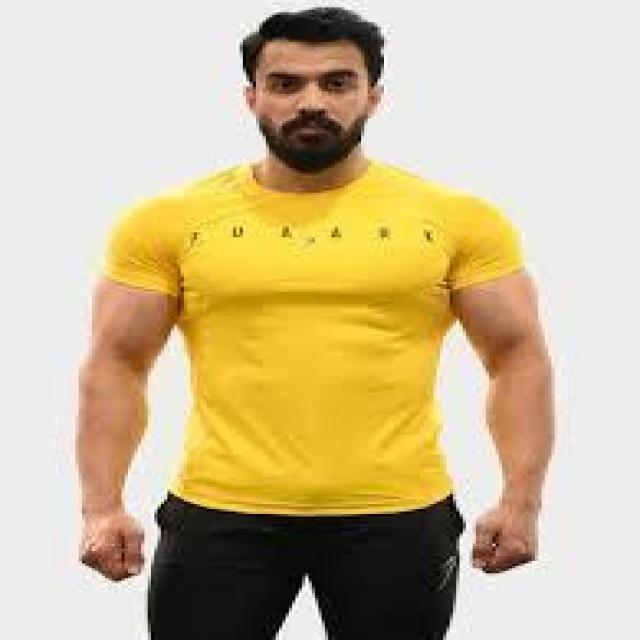Tshirt: (102, 160, 535, 522)
